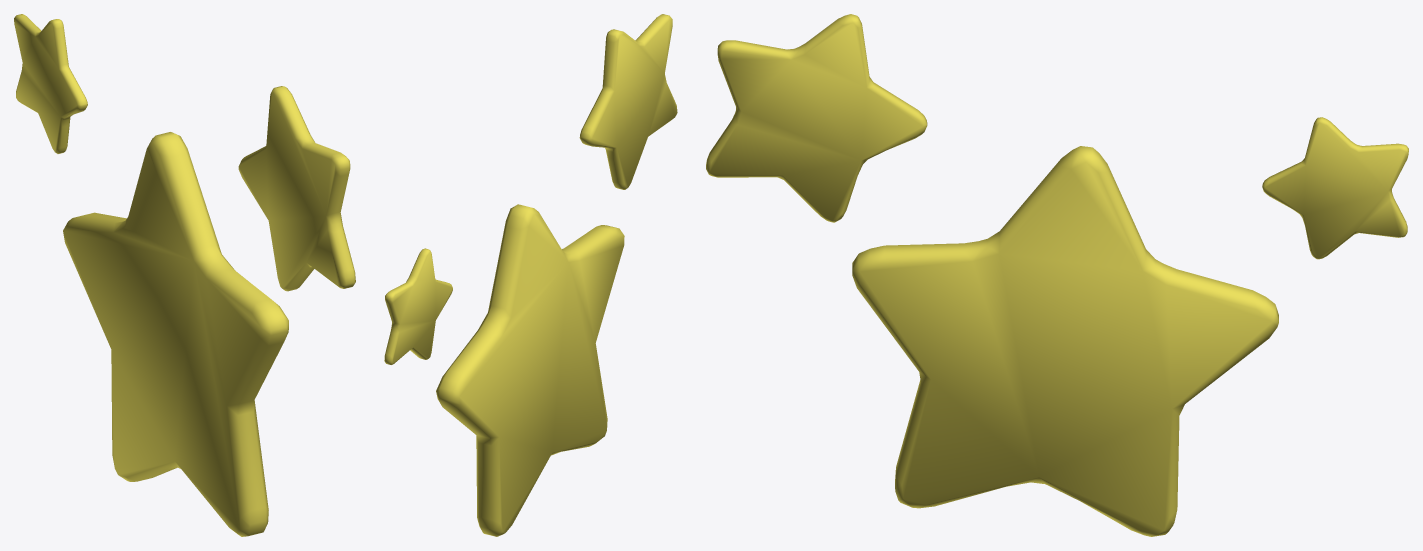
File: star.glb
The picture shows the model from 3 angles, left to right: view 1: azimuth 30°, elevation 25°; view 2: azimuth 150°, elevation 25°; view 3: azimuth 270°, elevation 25°; orthographic projection. The views are drawn at different scales.
Visible parts, largest first — view 1: Cube.003; view 2: Cube.003; view 3: Cube.003.
Part boxes in pixels (box(x1,y1,x2,y2)): Cube.003: box(14, 14, 355, 536); Cube.003: box(384, 14, 677, 536); Cube.003: box(706, 14, 1408, 536).
Bounding box in the file's own units: 0.3703 × 6 × 7.38.
